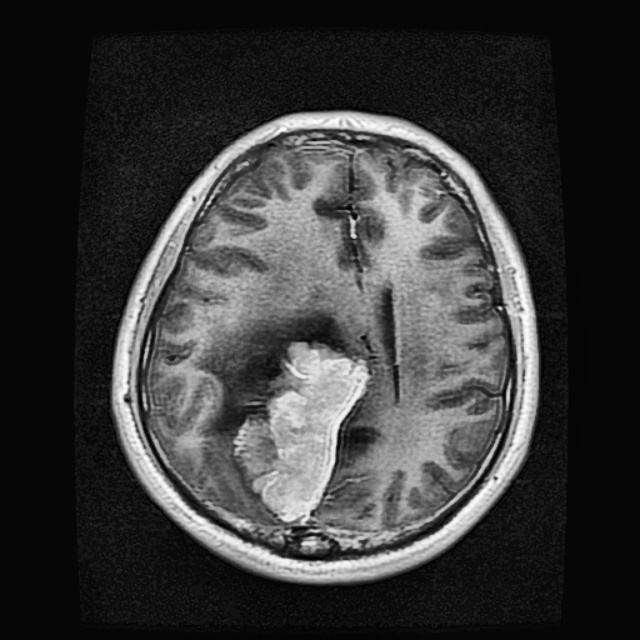Pituitary: (233, 340, 363, 520)
